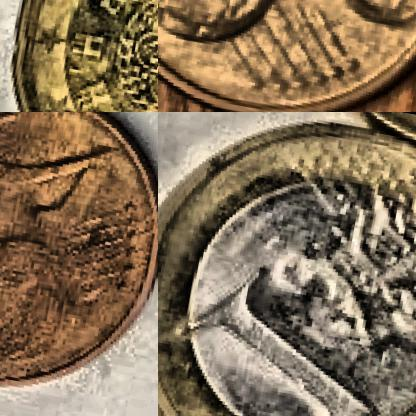coin: (158, 112, 415, 415), (0, 112, 157, 413), (158, 0, 415, 111), (0, 0, 157, 111)
